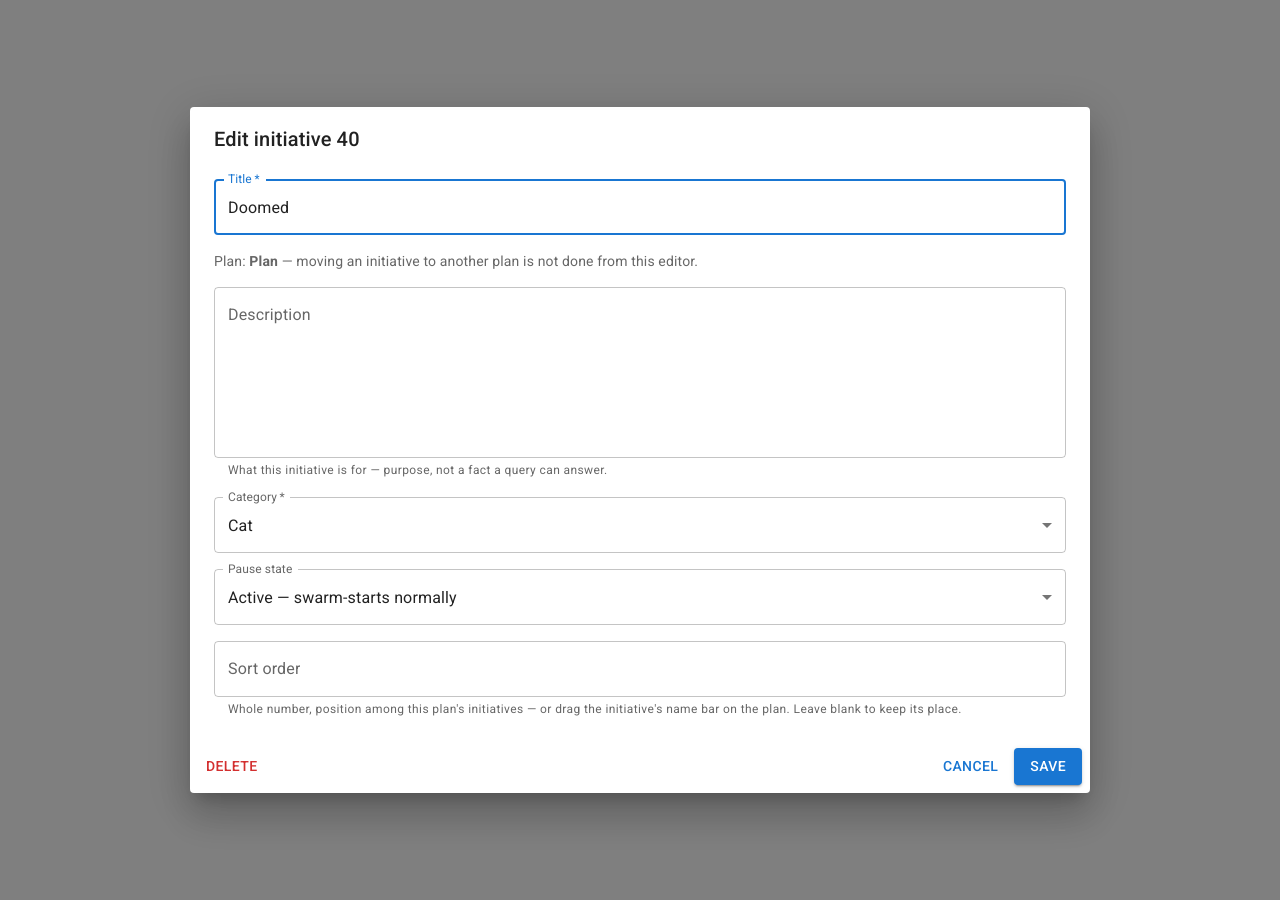
Test: InitiativeEditDialog delete (req #3967) › a blocked delete names the lock and cannot be confirmed
Click the button "Delete": (232, 766) [198,748,266,785]
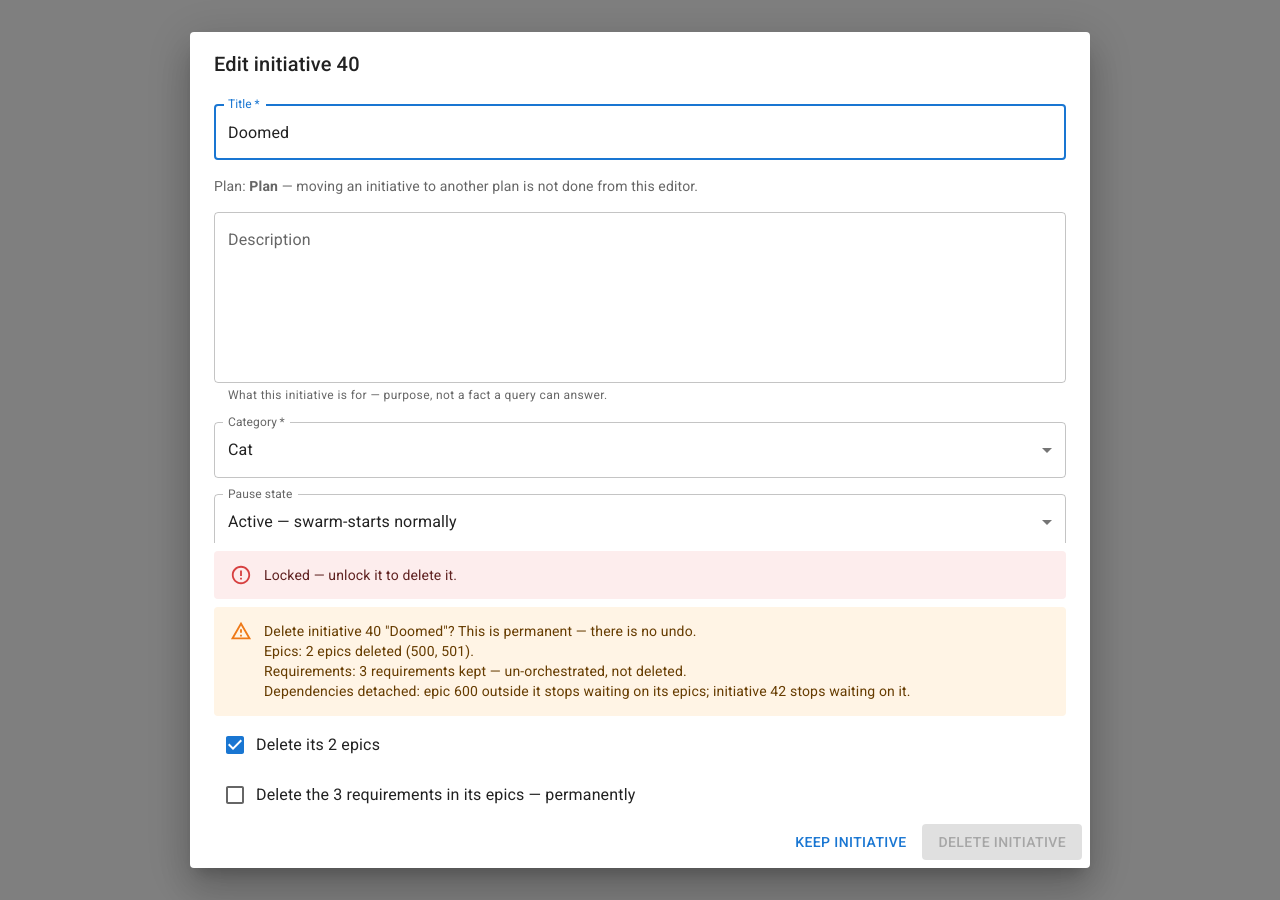
Check: the message "Locked — unlock it to delete it." is shown, box [214,551,1066,599]
